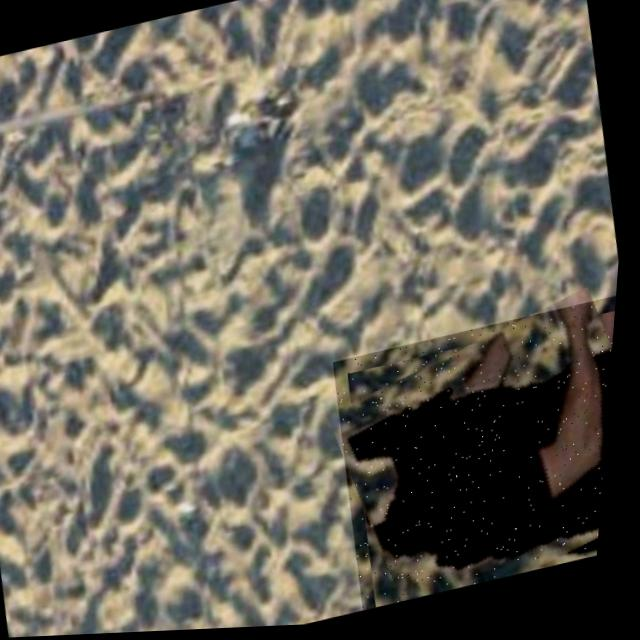Person in Rubble: (323, 299, 621, 615)
